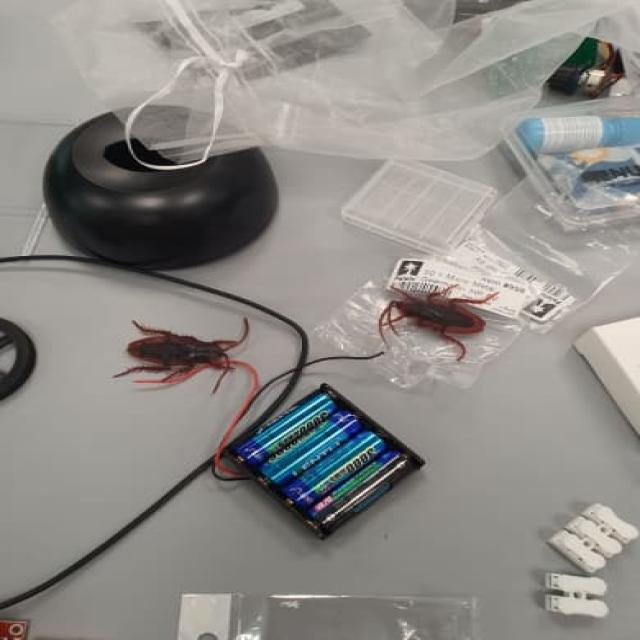Cockroach: (381, 286, 504, 356), (120, 318, 256, 376)
